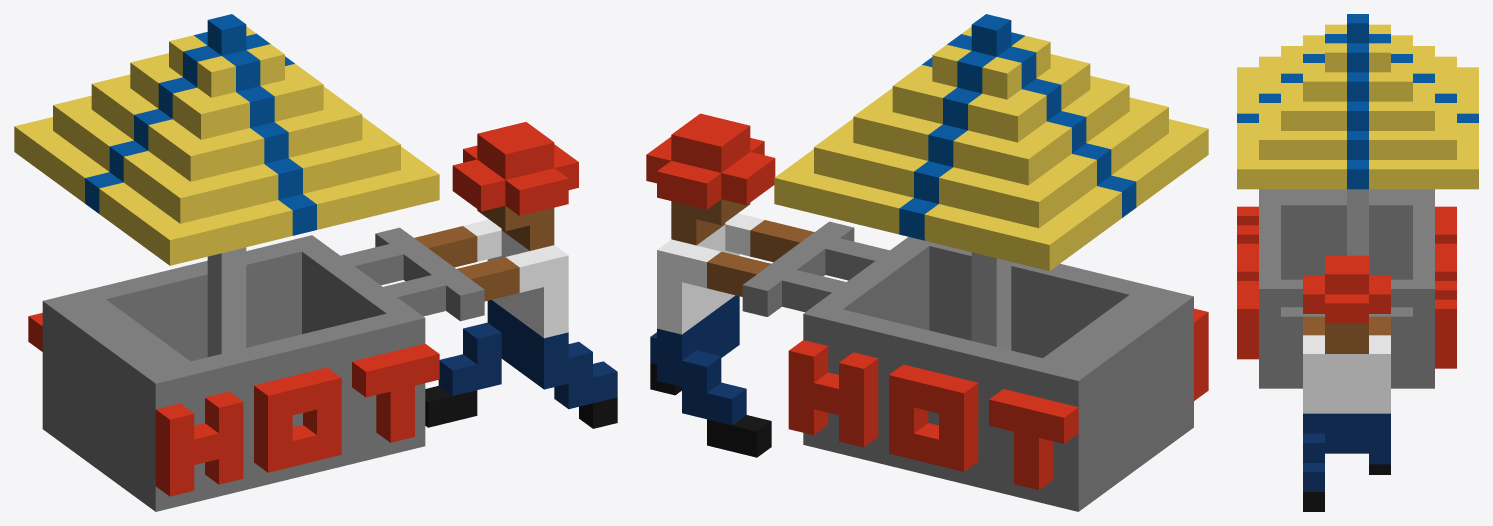
Rendered from hotdogguyright.vox.vox.obj.
The picture shows the model from 3 angles, left to right: view 1: azimuth 30°, elevation 25°; view 2: azimuth 150°, elevation 25°; view 3: azimuth 270°, elevation 25°; orthographic projection. The views are drawn at different scales.
Bounding box in the file's own units: 2 × 1.8 × 1.1.
Materials: 1 (1 with a texture image).
